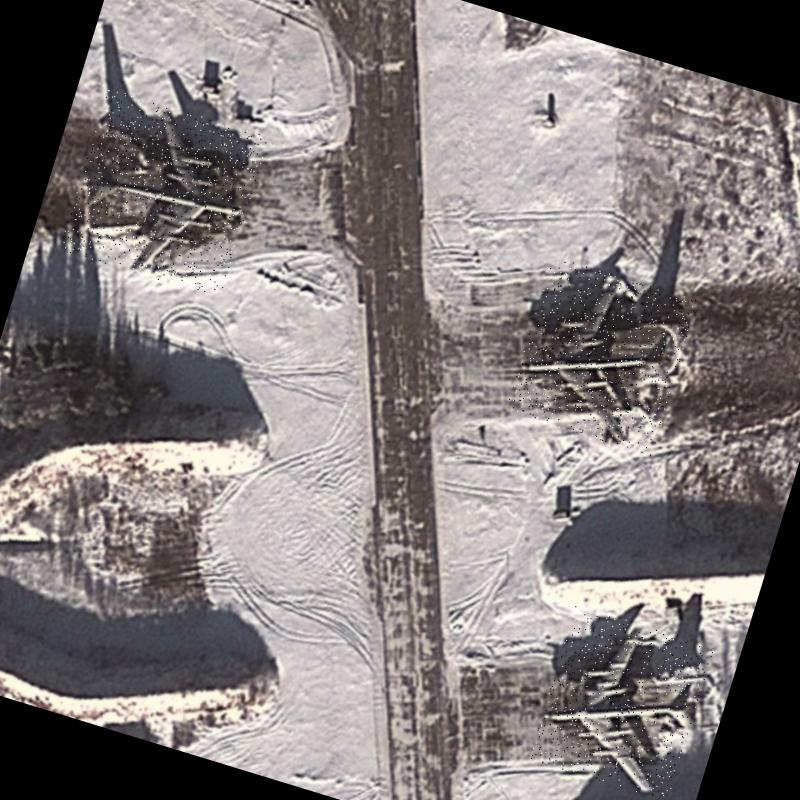A17: (59, 88, 269, 299), (505, 256, 699, 456), (528, 604, 714, 800)
